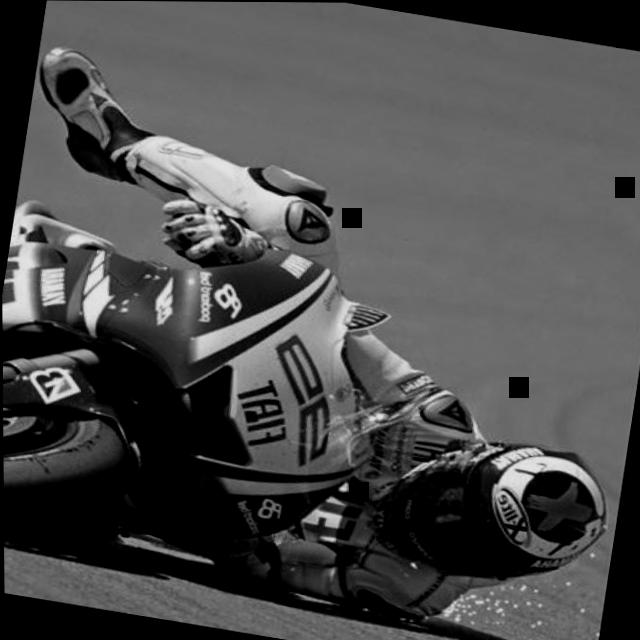Fall-Detected: (0, 19, 640, 627)
